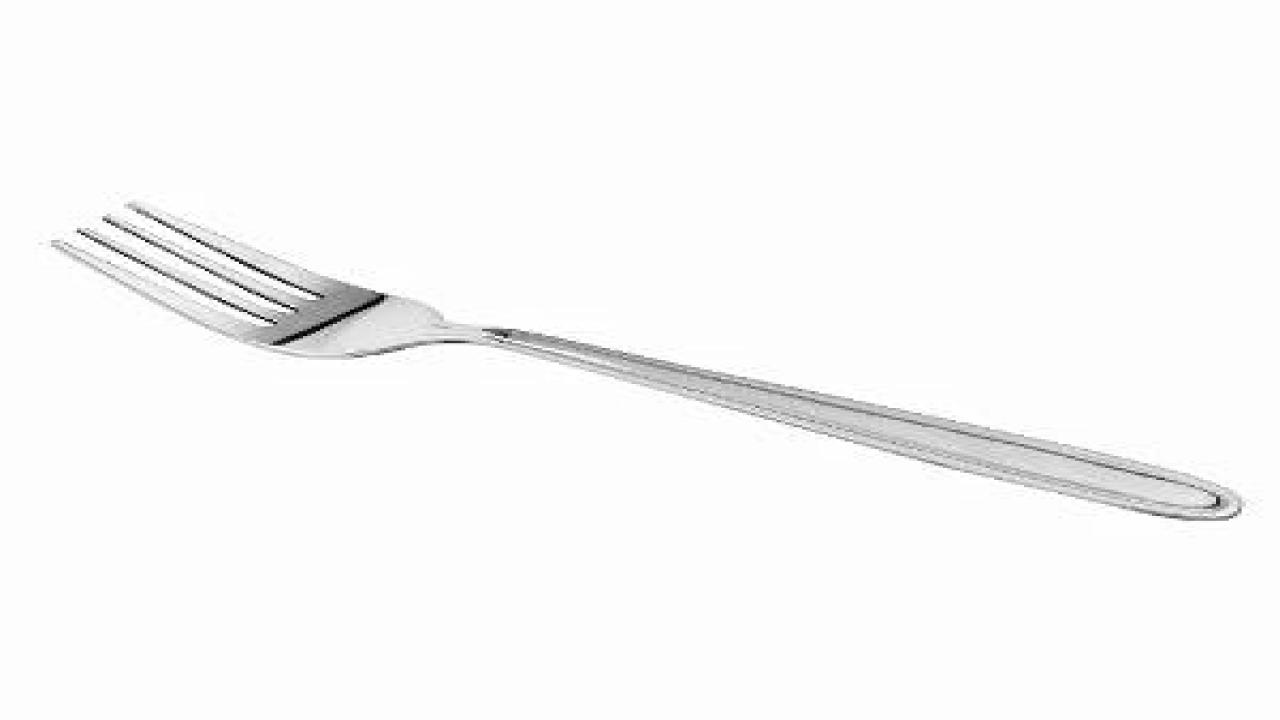fork: (47, 197, 1242, 521)
